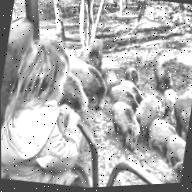boar: (62, 48, 106, 97), (107, 98, 139, 148), (63, 73, 96, 114), (134, 81, 164, 126), (150, 50, 177, 90), (142, 112, 173, 144), (164, 130, 187, 167), (117, 71, 144, 102), (175, 80, 192, 127), (120, 55, 143, 85), (109, 77, 133, 104), (106, 60, 117, 92)
